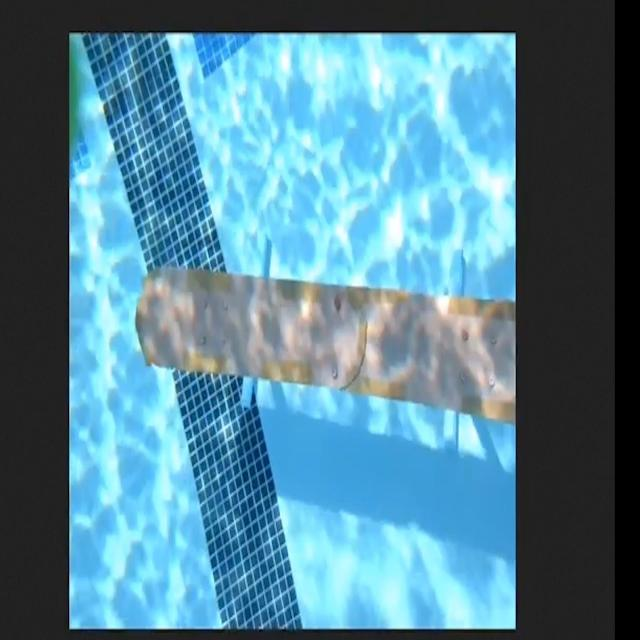Path: (139, 263, 516, 432)
